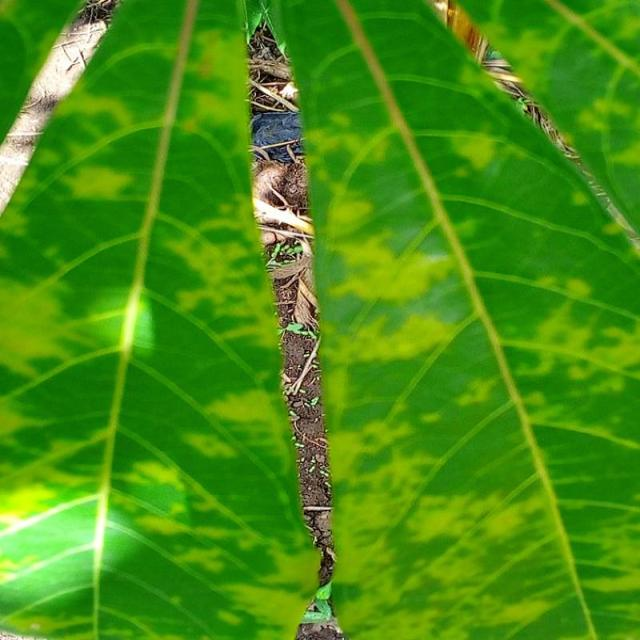cassava leaf: (264, 0, 638, 638), (0, 0, 322, 638)
